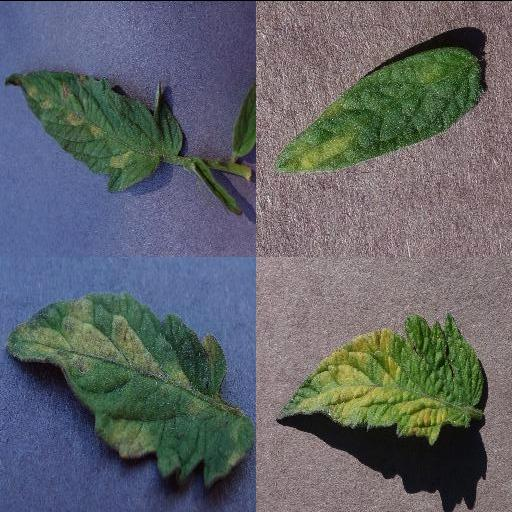Leaf Mold: (4, 291, 256, 488), (276, 311, 486, 444), (273, 44, 485, 173), (3, 68, 183, 190)
